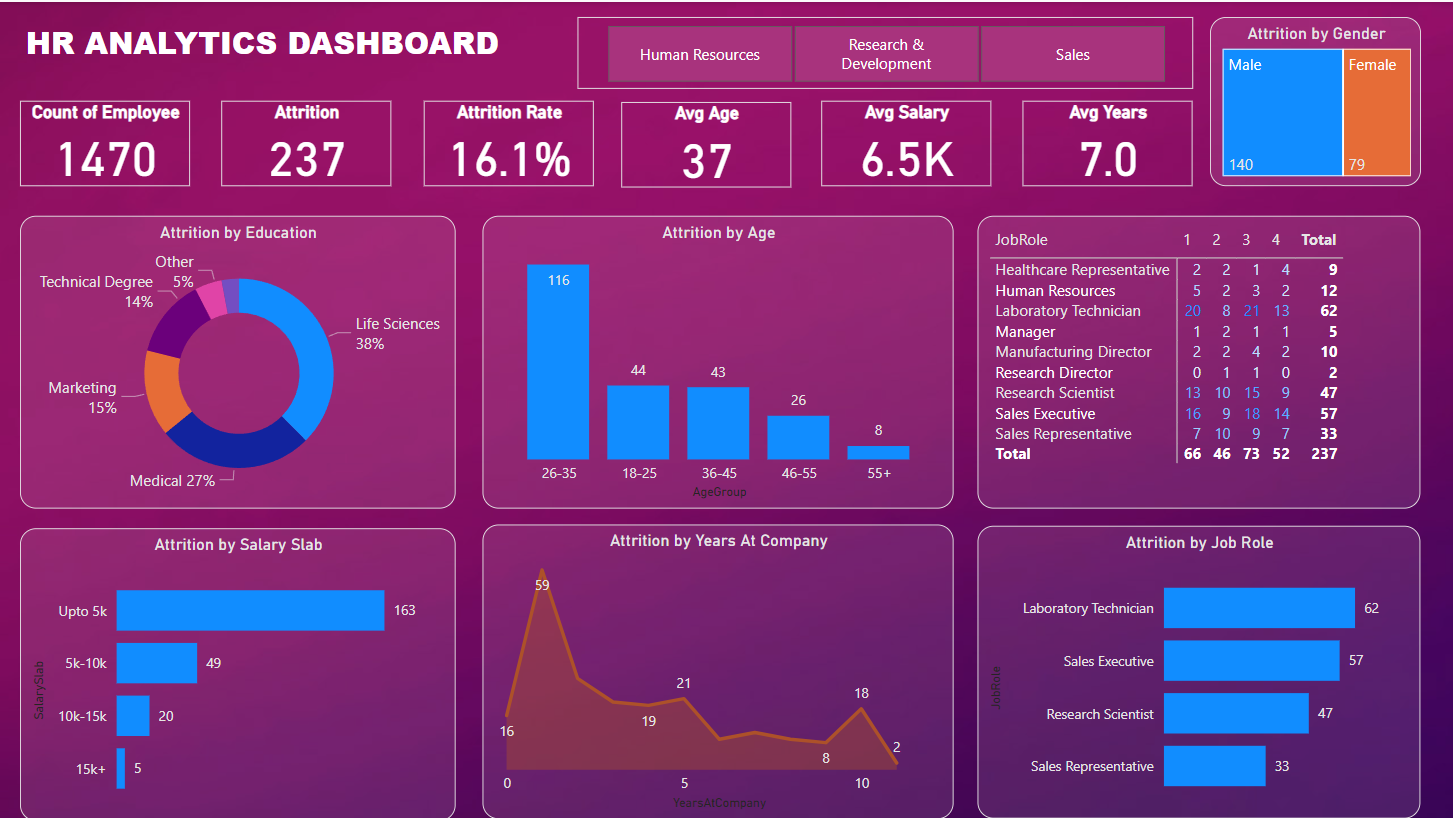

This screenshot's page, from the dashboard's own definition file:
{"tool":"powerbi","page":{"name":"Page 1","canvas":[1280,720],"ordinal":0},"visuals":[{"type":"card","title":"Count of Employee","fields":{"Values":["CountNonNull(HR_Analytics.EmpID)"]},"box":[17.3,86.8,149.6,75.5],"z":0},{"type":"card","title":"Attrition","fields":{"Values":["Sum(HR_Analytics.AttritionCount)"]},"box":[194.3,86.8,149.6,75.5],"z":1000},{"type":"card","title":"Avg Age","fields":{"Values":["Avg(HR_Analytics.Age)"]},"box":[547,88.2,149.6,75.5],"z":2000},{"type":"card","title":"Attrition Rate","fields":{"Values":["HR_Analytics.AttritionRate"]},"box":[372.7,86.8,149.6,75.5],"z":3000},{"type":"card","title":"Avg Salary","fields":{"Values":["Avg(HR_Analytics.MonthlyIncome)"]},"box":[722.6,86.8,149.6,75.5],"z":4000},{"type":"card","title":"Avg Years","fields":{"Values":["Avg(HR_Analytics.YearsAtCompany)"]},"box":[899.6,86.8,149.6,75.5],"z":5000},{"type":"donutChart","title":"Attrition by Education","fields":{"Category":["HR_Analytics.EducationField"],"Y":["Sum(HR_Analytics.AttritionCount)"]},"box":[17.8,188,382.8,258],"z":6000},{"type":"columnChart","title":"Attrition by Age","fields":{"Category":["HR_Analytics.AgeGroup"],"Y":["Sum(HR_Analytics.AttritionCount)"]},"box":[424,188,414.4,258],"z":7000},{"type":"pivotTable","fields":{"Rows":["HR_Analytics.JobRole"],"Columns":["HR_Analytics.JobSatisfaction"],"Values":["Sum(HR_Analytics.AttritionCount)"]},"box":[860.4,188,389.7,258],"z":8000},{"type":"barChart","title":"Attrition by Salary Slab","fields":{"Category":["HR_Analytics.SalarySlab"],"Y":["Sum(HR_Analytics.AttritionCount)"]},"box":[17.8,462.4,382.8,258],"z":9000},{"type":"barChart","title":"Attrition by Job Role","fields":{"Category":["HR_Analytics.JobRole"],"Y":["Sum(HR_Analytics.AttritionCount)"]},"box":[860.4,461.1,389.7,258],"z":10000},{"type":"areaChart","title":"Attrition by Years At Company","fields":{"Category":["HR_Analytics.YearsAtCompany"],"Y":["Sum(HR_Analytics.AttritionCount)"]},"box":[424,459.7,414.4,259.3],"z":11000},{"type":"treemap","title":"Attrition by Gender","fields":{"Group":["HR_Analytics.Gender"],"Values":["Sum(HR_Analytics.AttritionCount)"]},"box":[1064.3,13.1,185.7,148.8],"z":12000},{"type":"slicer","fields":{"Values":["HR_Analytics.Department"]},"box":[508.3,13.1,541.7,63.1],"z":13000},{"type":"textbox","box":[17.8,11,429.5,65.9],"z":14000}]}

Visuals, with their boxes in screenshot pixels (x1, y1, x2, y2), scaled from the page's 1280x720 canvas onto the 1453x818 screenshot:
"Count of Employee" card: <region>20, 99, 189, 184</region>
"Attrition" card: <region>221, 99, 390, 184</region>
"Avg Age" card: <region>621, 100, 791, 186</region>
"Attrition Rate" card: <region>423, 99, 593, 184</region>
"Avg Salary" card: <region>820, 99, 990, 184</region>
"Avg Years" card: <region>1021, 99, 1191, 184</region>
"Attrition by Education" donutChart: <region>20, 214, 455, 507</region>
"Attrition by Age" columnChart: <region>481, 214, 952, 507</region>
pivotTable - HR_Analytics.JobRole x HR_Analytics.JobSatisfaction: <region>977, 214, 1419, 507</region>
"Attrition by Salary Slab" barChart: <region>20, 525, 455, 817</region>
"Attrition by Job Role" barChart: <region>977, 524, 1419, 817</region>
"Attrition by Years At Company" areaChart: <region>481, 522, 952, 817</region>
"Attrition by Gender" treemap: <region>1208, 15, 1419, 184</region>
slicer - HR_Analytics.Department: <region>577, 15, 1192, 87</region>
textbox: <region>20, 12, 508, 87</region>
